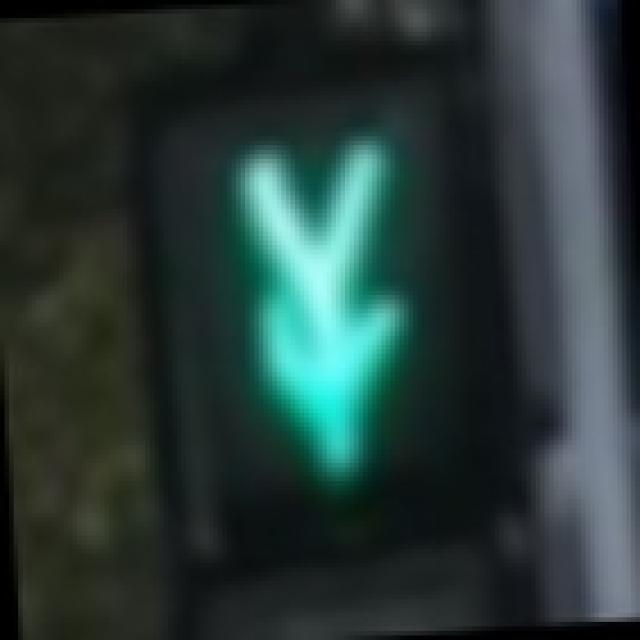green_light: (136, 86, 499, 540)
